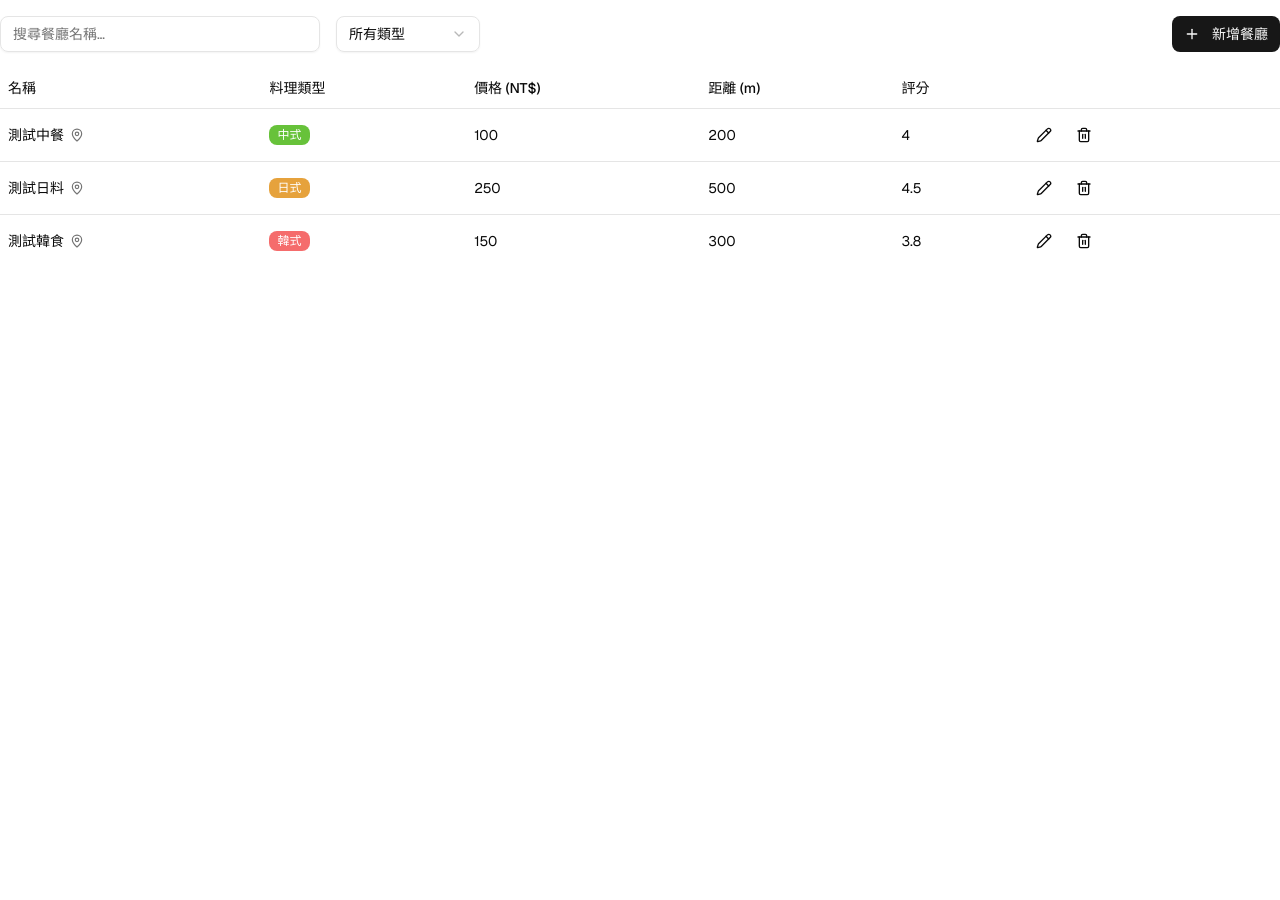
Test: RestaurantListPanel (admin CRUD) › shows range validation error for price <= 0
The width and height of the screenshot is (1280, 900).
Click the button "新增餐廳": [1226, 34] box x1=1172 y1=16 x2=1279 y2=52
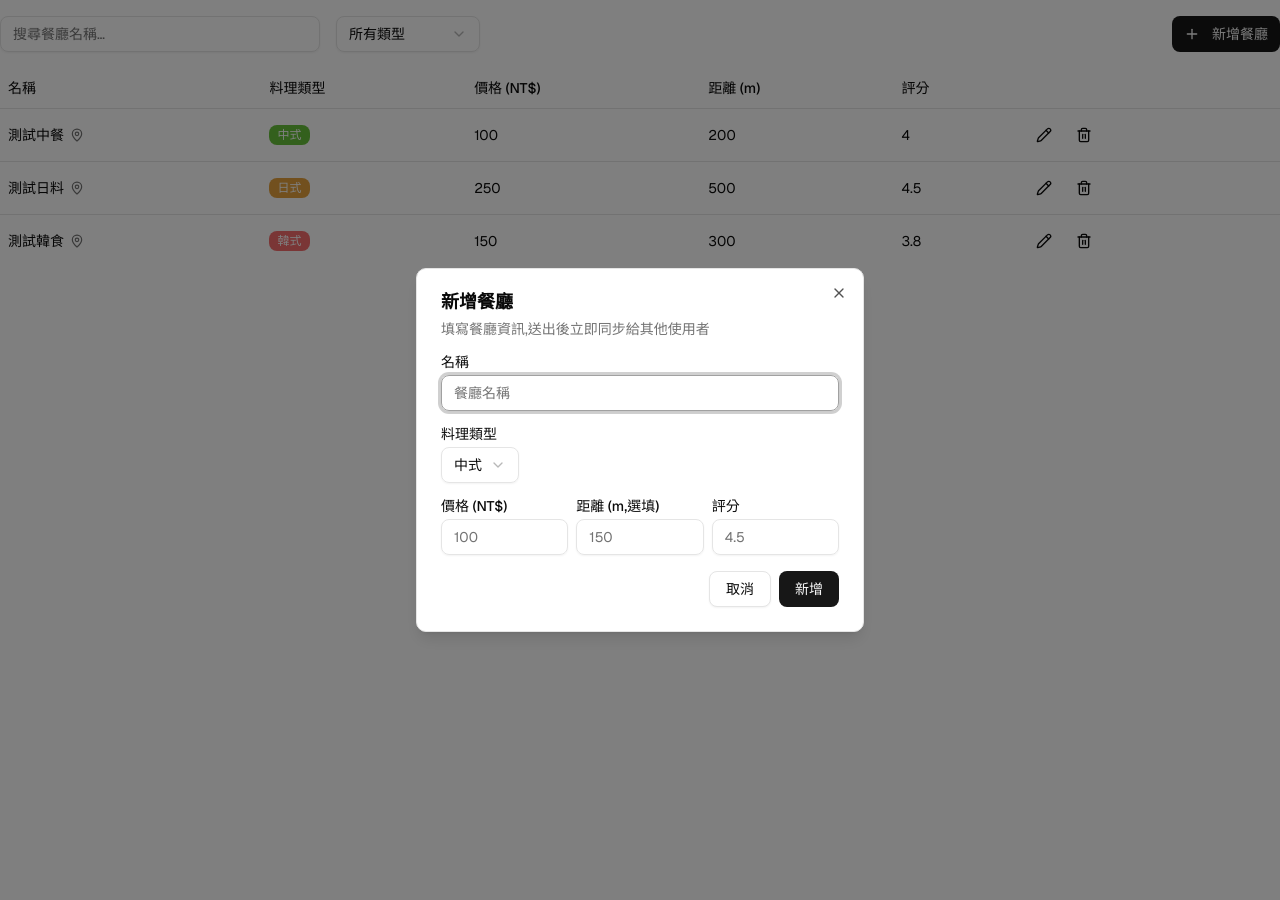
In the field labelled "名稱": [640, 393] box x1=441 y1=375 x2=839 y2=411, type "新餐廳"
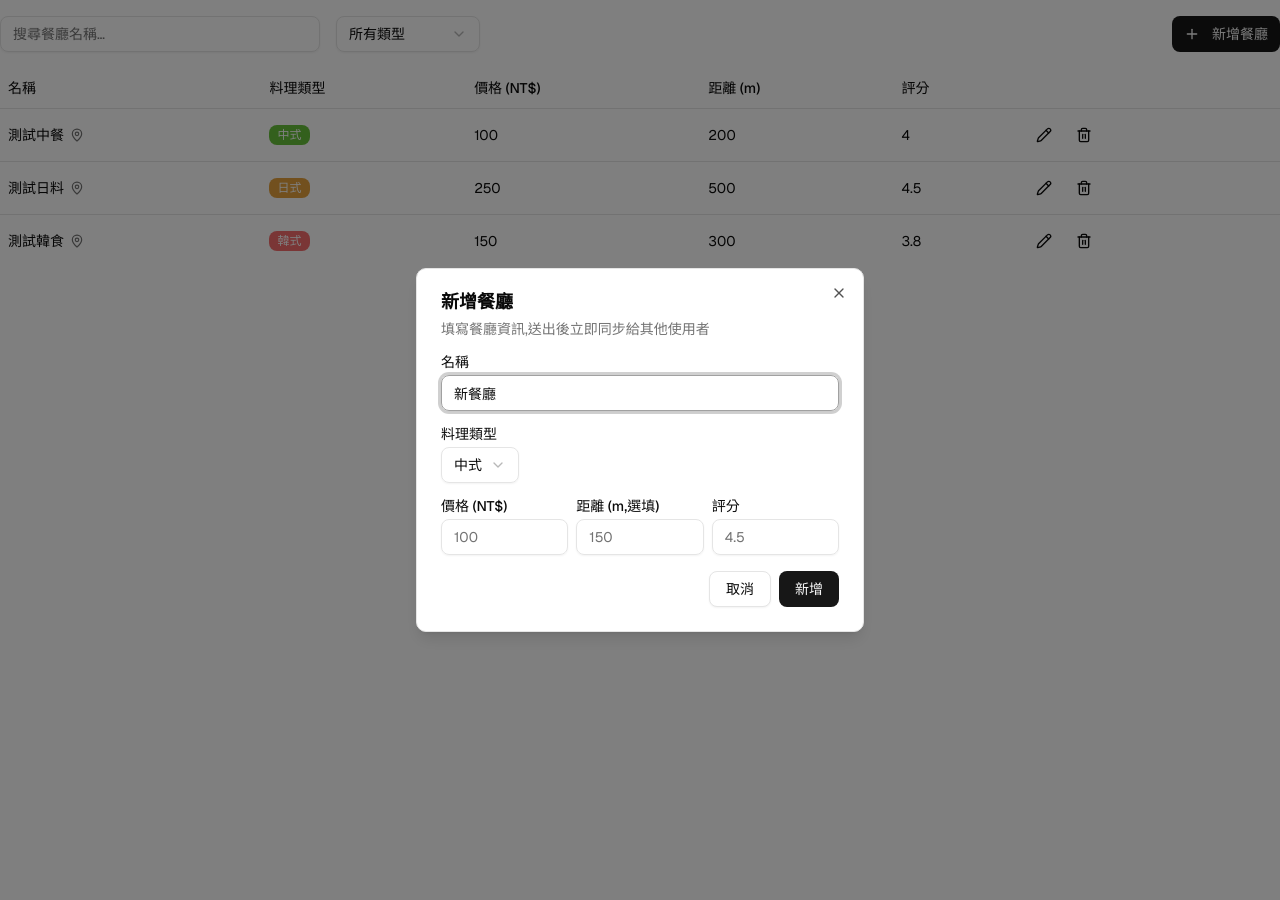
In the number field labelled "價格 (NT$)": [505, 537] box x1=441 y1=519 x2=568 y2=555, type "-10"
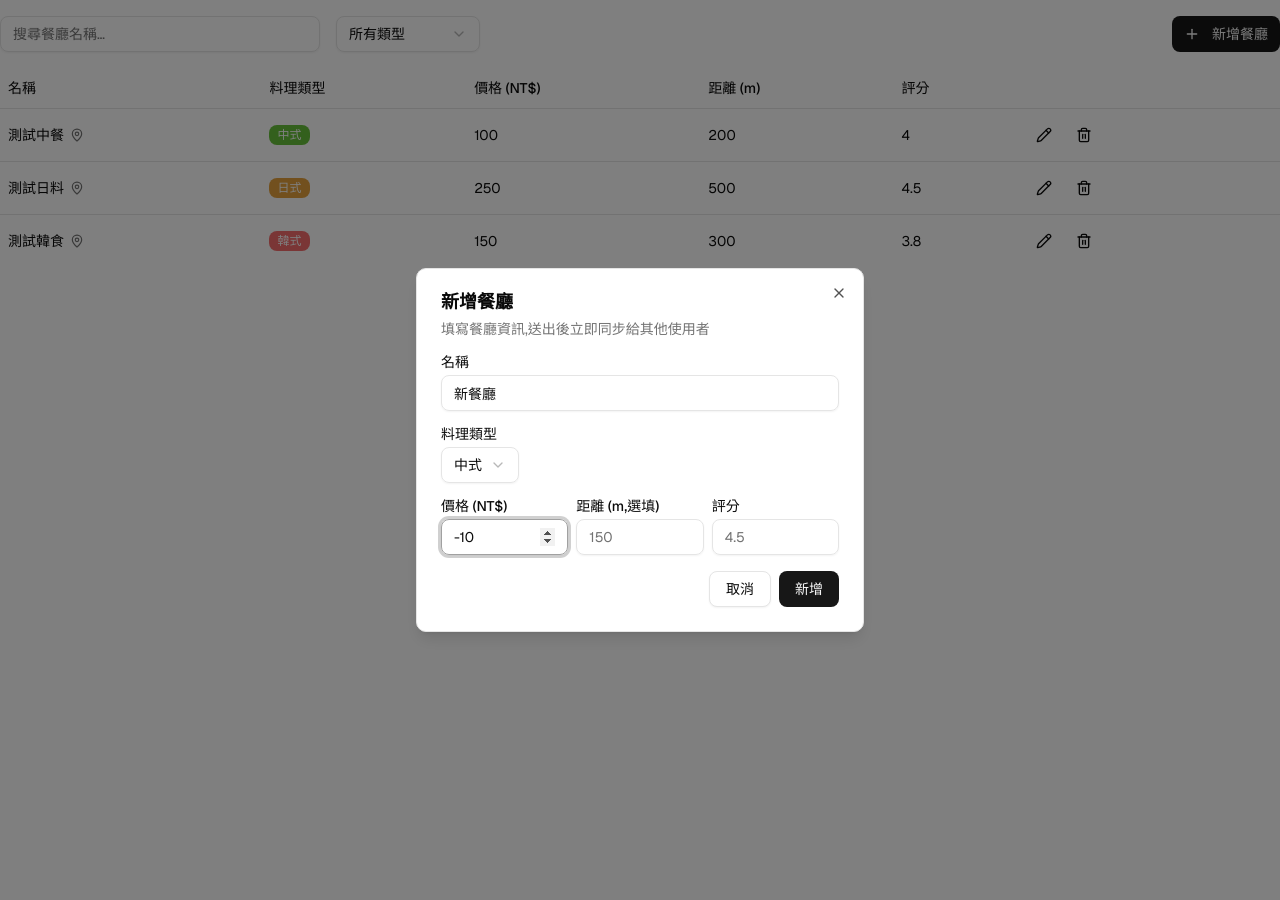
In the number field labelled "距離 (m,選填)": [640, 537] box x1=576 y1=519 x2=704 y2=555, type "100"
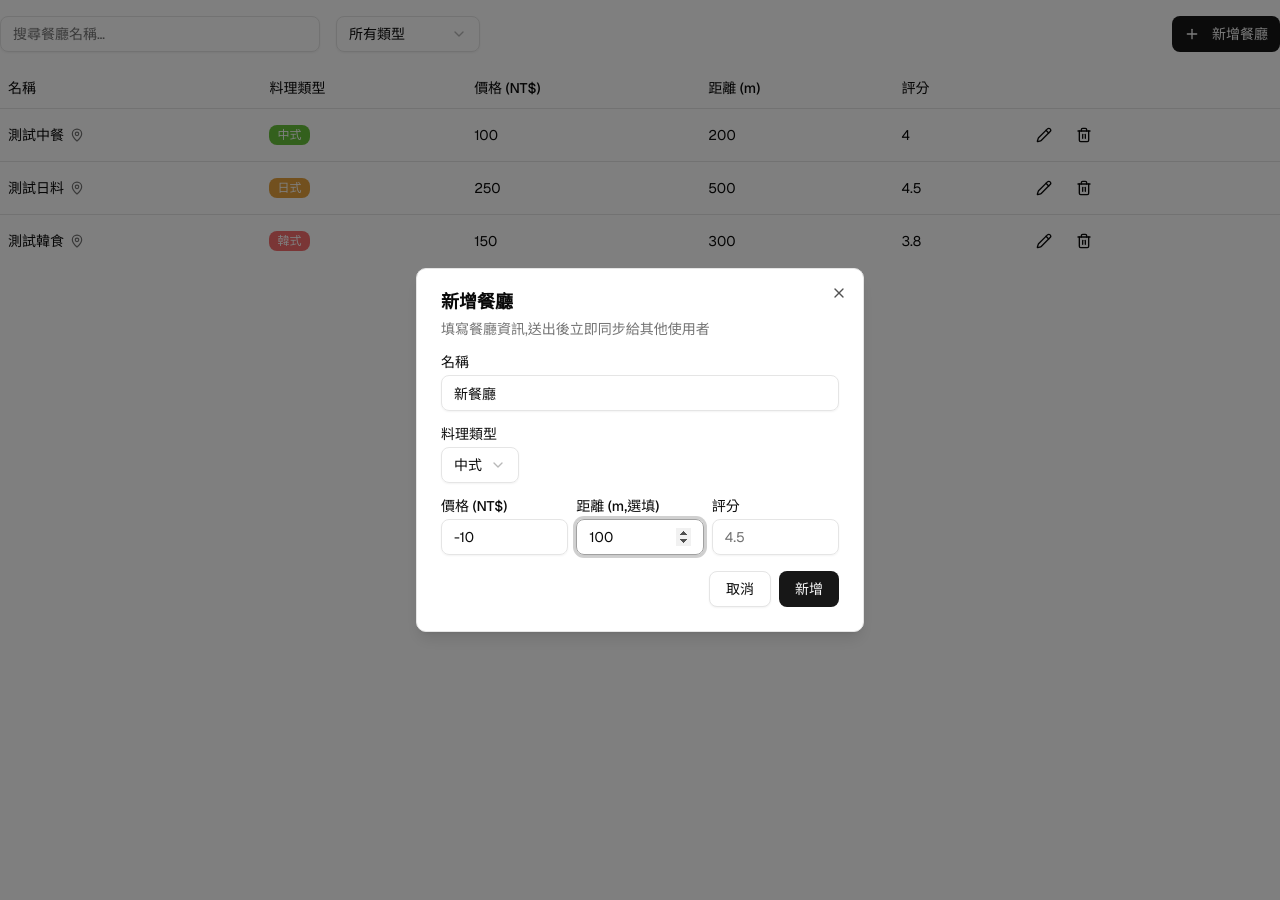
In the number field labelled "評分": [775, 537] box x1=712 y1=519 x2=839 y2=555, type "4.0"
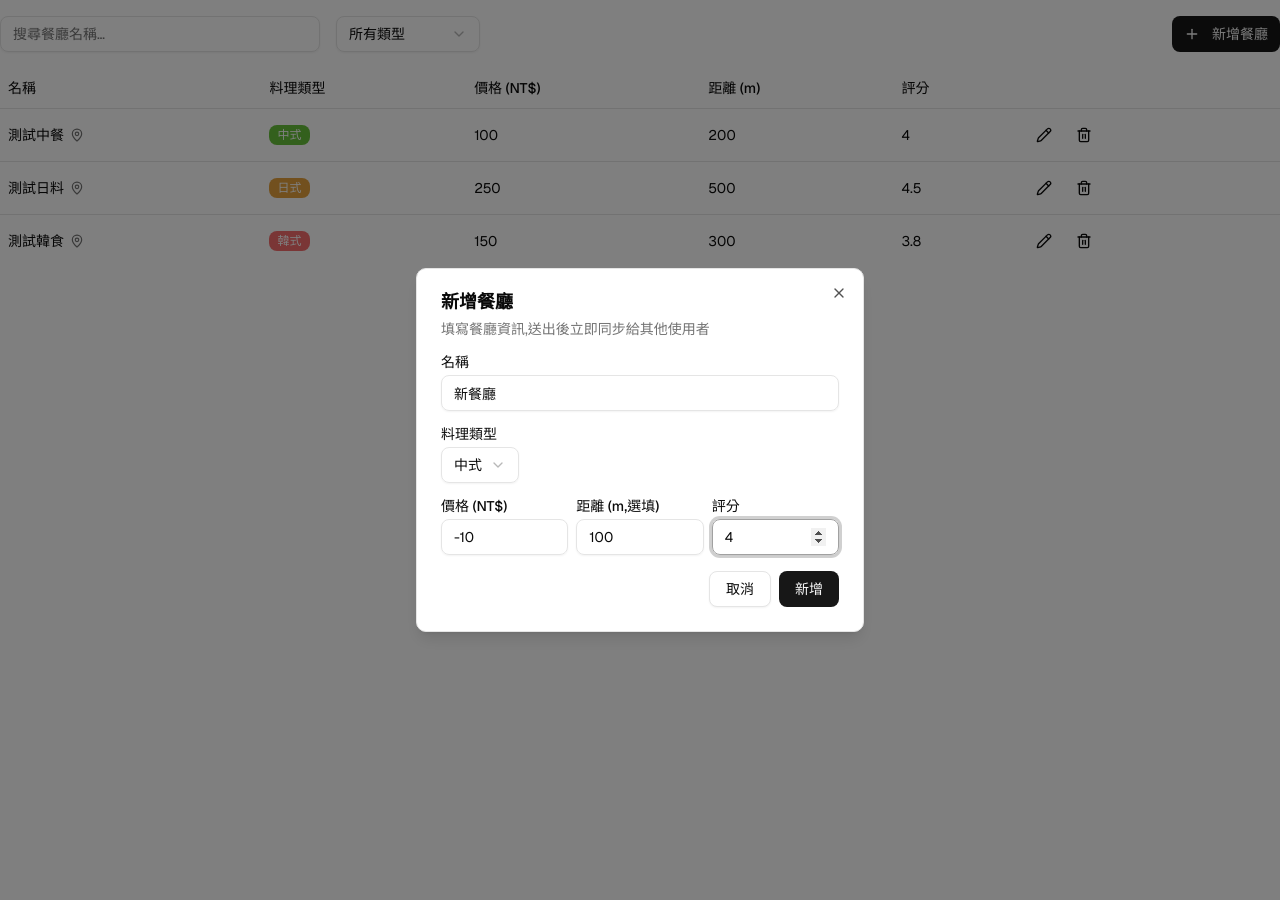
Click the button "新增": [809, 589] box x1=779 y1=571 x2=839 y2=607
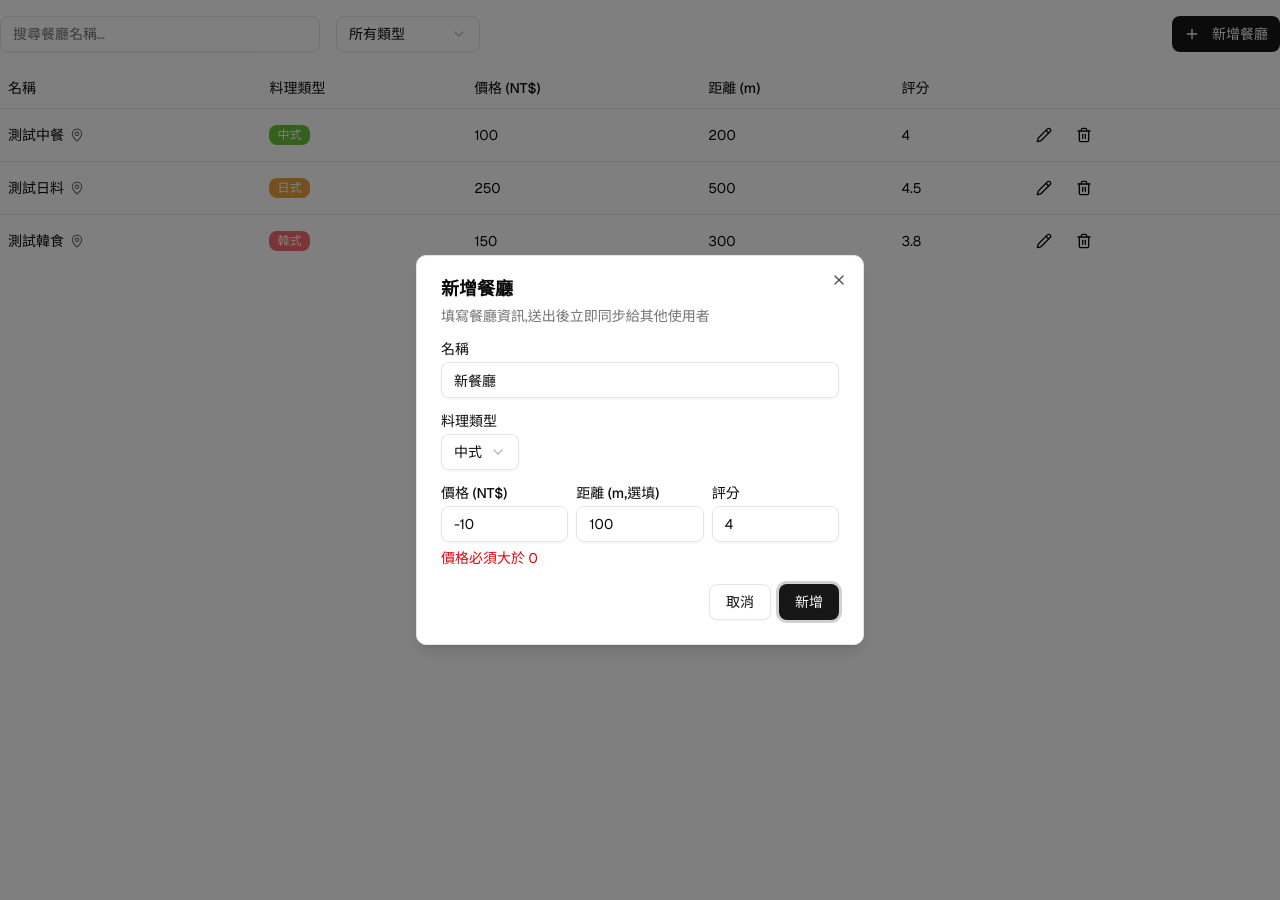
Now the text "價格必須大於 0" is shown, box x1=441 y1=549 x2=538 y2=567
